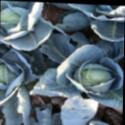cabbage: (69, 61, 109, 94), (0, 1, 27, 30), (0, 58, 15, 93)
